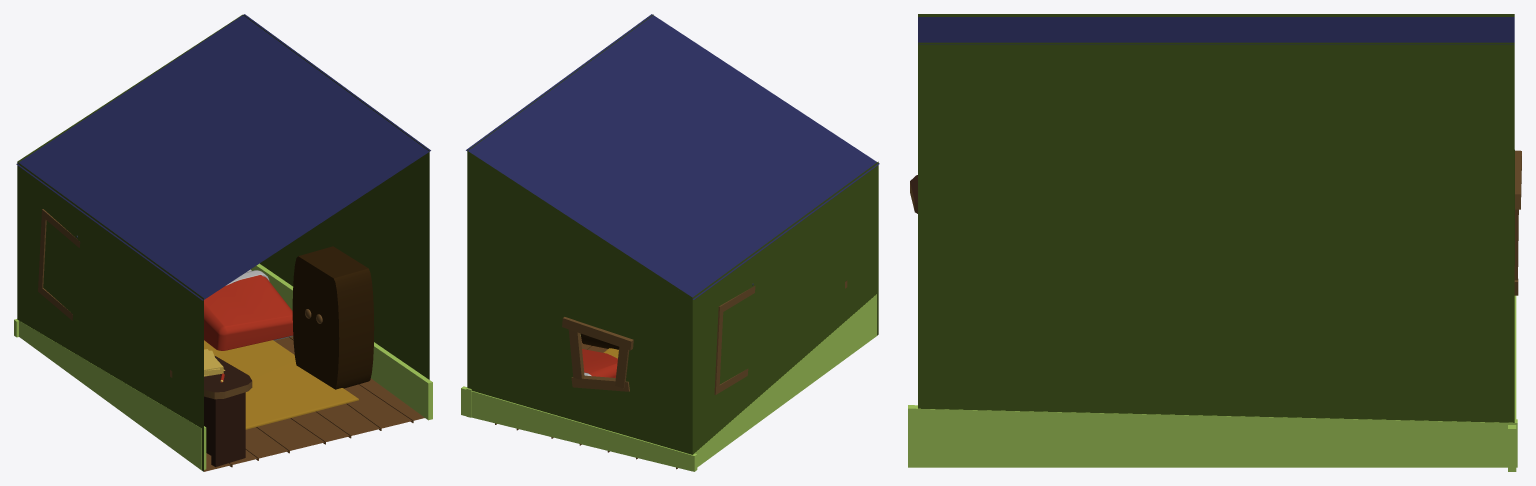
File: Mitzie_room.dae
3 renders of one model, left to right at view 1: azimuth 30°, elevation 25°; view 2: azimuth 150°, elevation 25°; view 3: azimuth 270°, elevation 25°, orthographic. The views are drawn at different scales.
Parts seen in each view (by area): view 1: pCylinder18, polySurface5, pSphere3, polySurface13, polySurface7, polySurface9, pCube19, Drawer, pTorus2; view 2: polySurface5, pCylinder18, polySurface13, polySurface14, pTorus2, pCube19; view 3: polySurface5, polySurface13, pCylinder18, polySurface14.
Boxes of the visible parts, x1,y1,x2,y2 form: pCylinder18: [16, 14, 430, 300]; polySurface5: [17, 14, 429, 471]; pSphere3: [292, 246, 374, 389]; polySurface13: [14, 263, 432, 470]; polySurface7: [204, 336, 424, 471]; polySurface9: [204, 340, 358, 429]; pCube19: [204, 269, 293, 350]; Drawer: [170, 356, 252, 466]; pTorus2: [38, 209, 80, 320]; polySurface5: [467, 14, 878, 454]; pCylinder18: [466, 14, 879, 299]; polySurface13: [461, 294, 876, 471]; polySurface14: [495, 317, 676, 469]; pTorus2: [714, 283, 755, 394]; pCube19: [582, 349, 617, 377]; polySurface5: [918, 14, 1514, 422]; polySurface13: [908, 295, 1517, 471]; pCylinder18: [918, 17, 1514, 44]; polySurface14: [1514, 150, 1521, 295].
Size of the model in its own units: 7.27 by 7.96 by 10.34.
